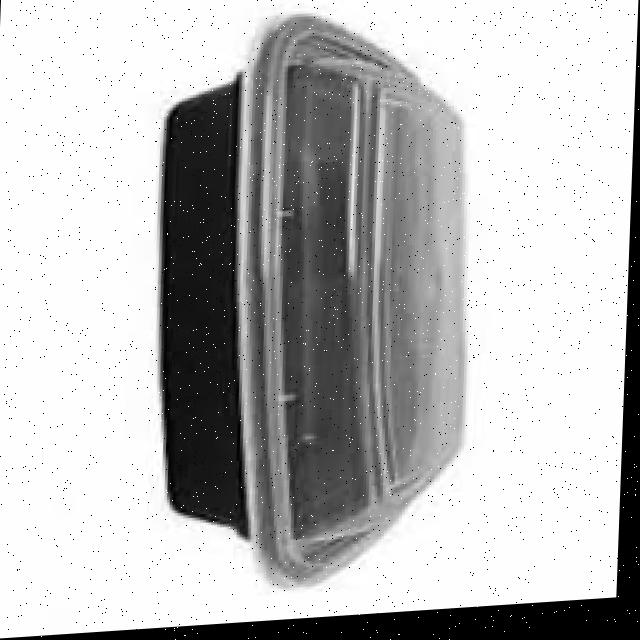disposable: (96, 5, 508, 631)
